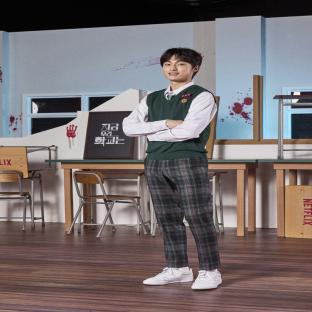Human: (123, 47, 221, 290)
